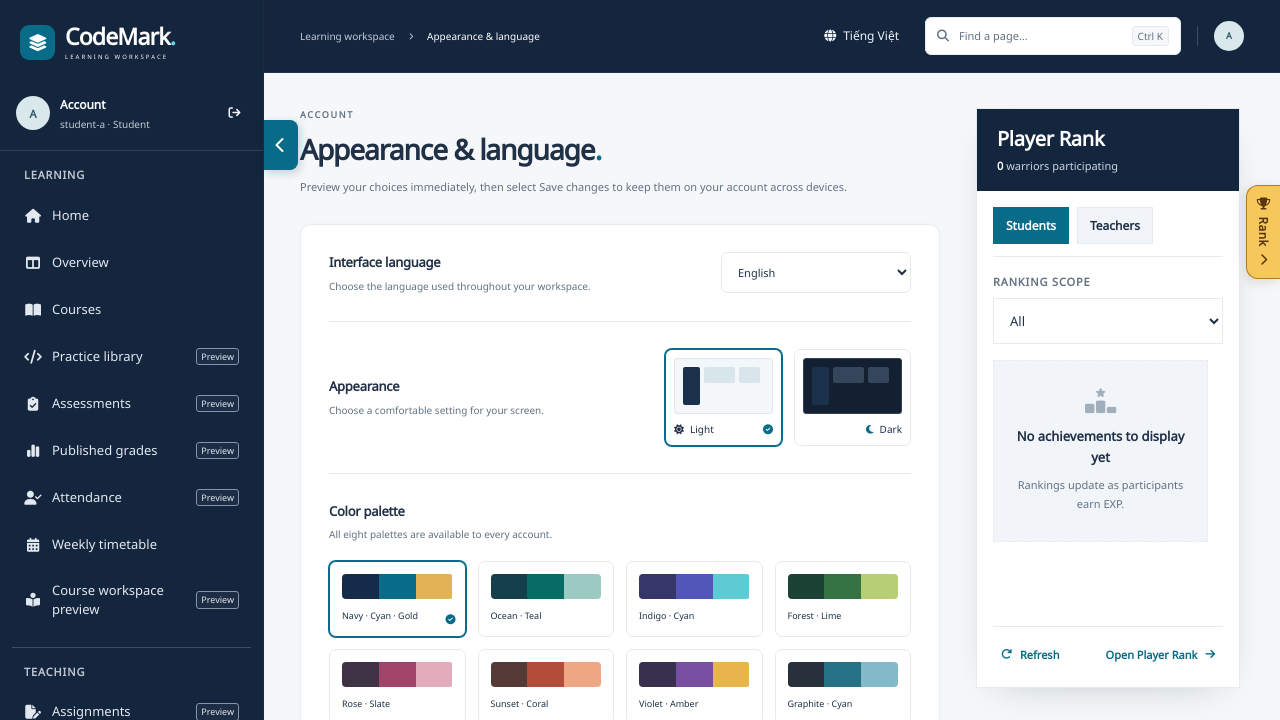
Test: Appearance, language and palette behavior › saves choices across remounts and keeps another account independent
This screenshot has width=1280, height=720.
Later steps or results of the test are not shown.
Expected: the dropdown named "Interface language" is shown, [721,252,911,293]
Click the button "Dark".
click(852, 397)  # box [794,349,911,446]
(page scrolled)
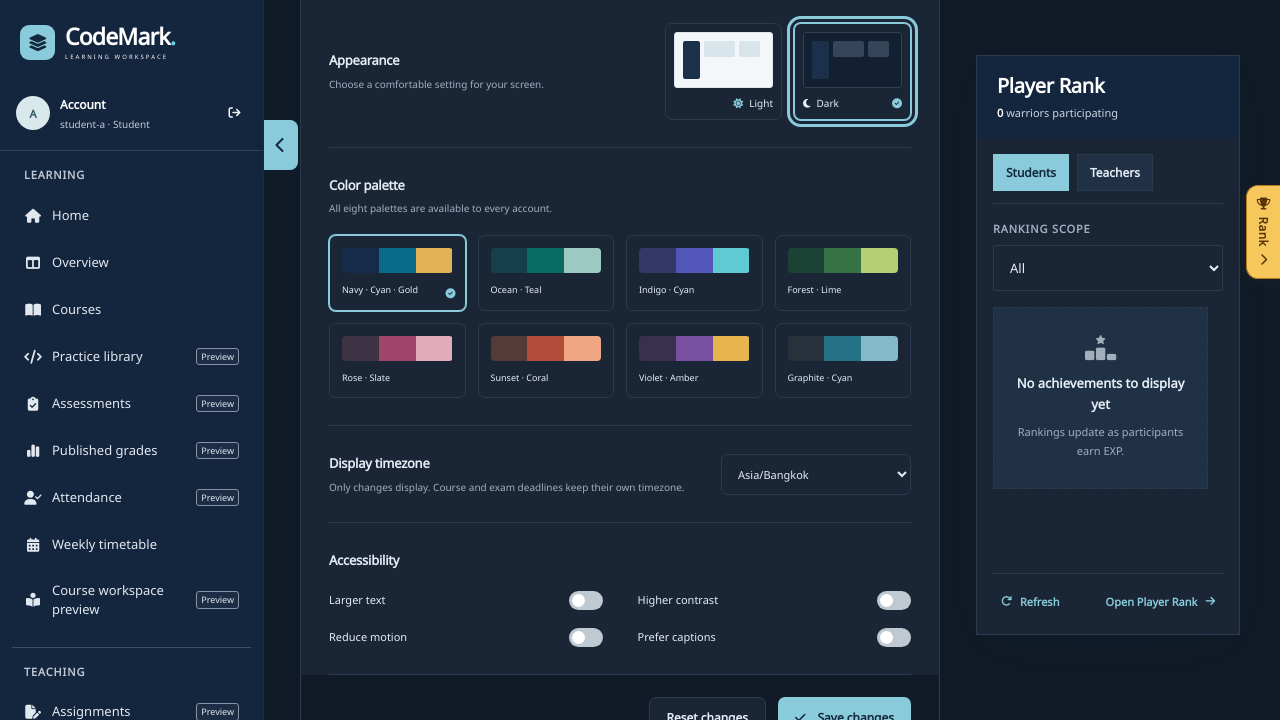
Click the button "Rose · Slate".
click(397, 360)  # box [329,323,466,398]
(page scrolled)
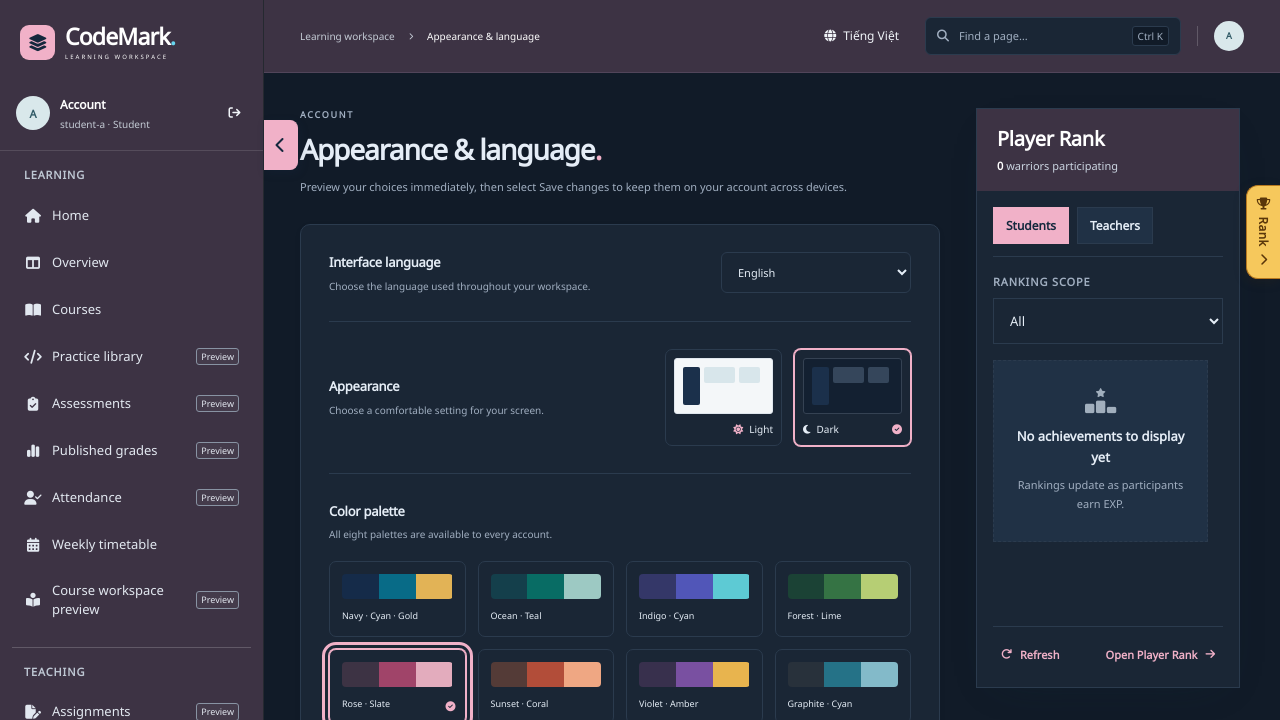
Select "Tiếng Việt" in the dropdown named "Interface language" at (816, 273), box [721,252,911,293]
(page scrolled)
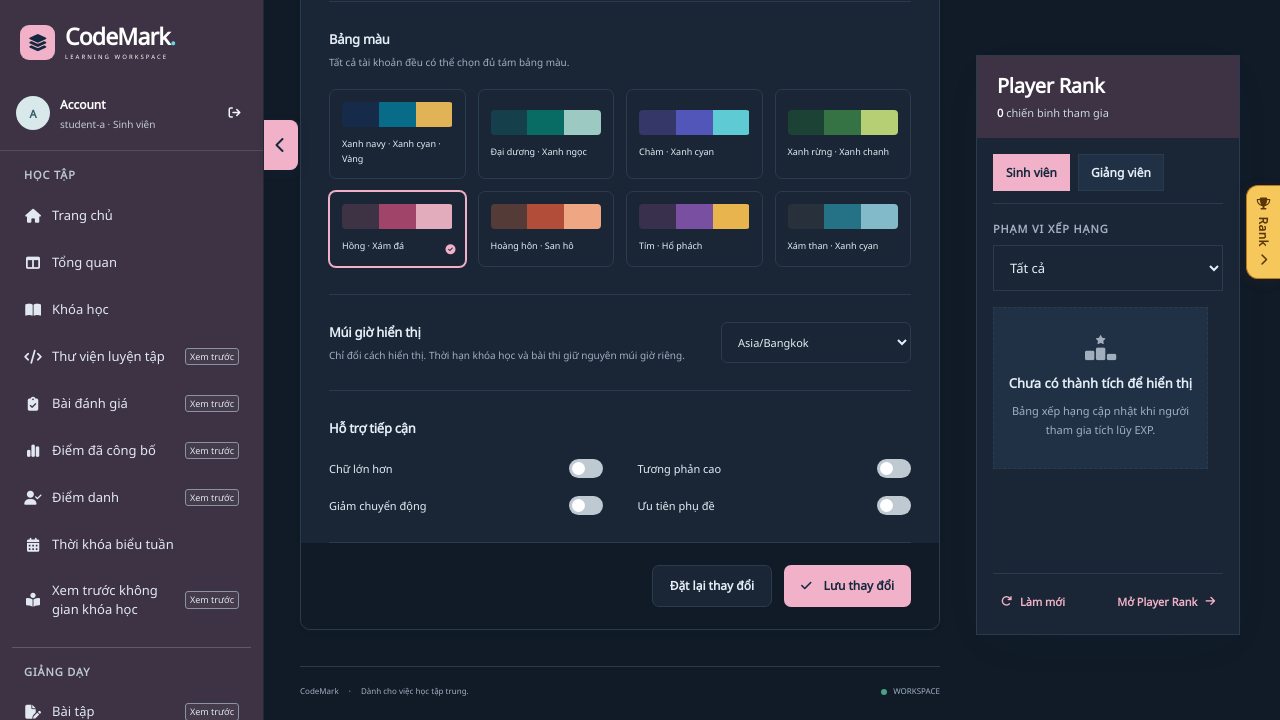
Click the button "Lưu thay đổi".
click(848, 586)  # box [784,565,911,607]
(page scrolled)
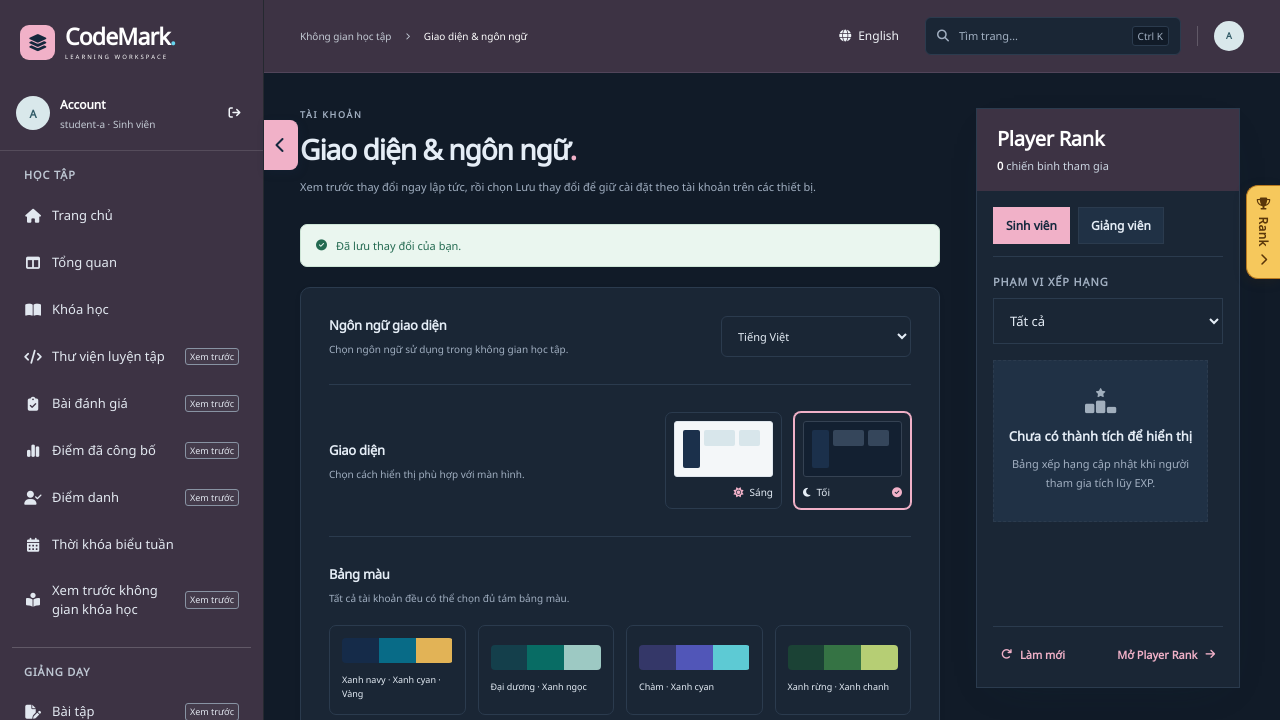
Now the text "Đã lưu thay đổi của bạn." is shown, box [300,224,940,267]
